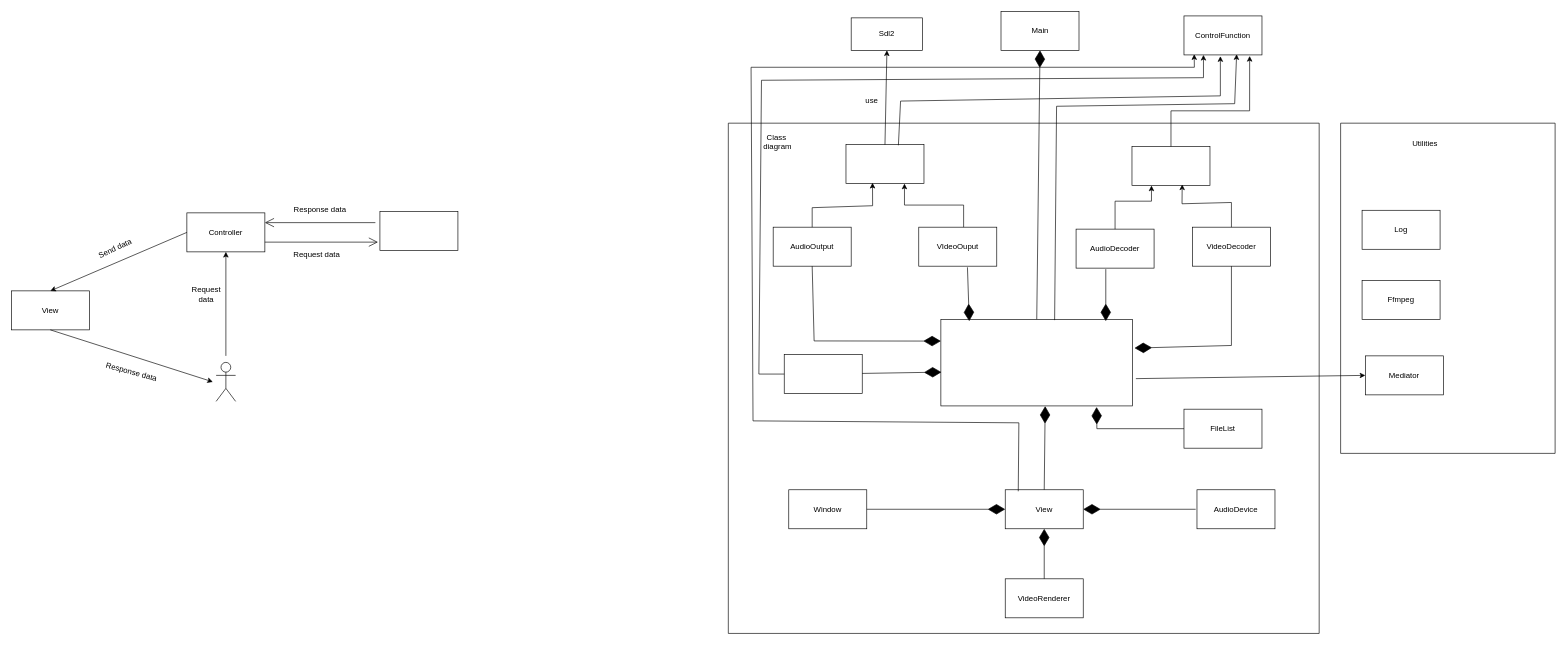
The diagram is 1567 pixels wide and 645 high, and some of its shapes have lost their labels. The shapes that lost their labels are listed below. From the top down, each one's centre as x and y in pixels, then its label:
At (884,164): "Outp ut".
At (1170,166): "Decoder".
At (418,231): "Model".
At (225,381): "Actor".
At (823,374): "Demuxer".
At (1036,362): "Player".
